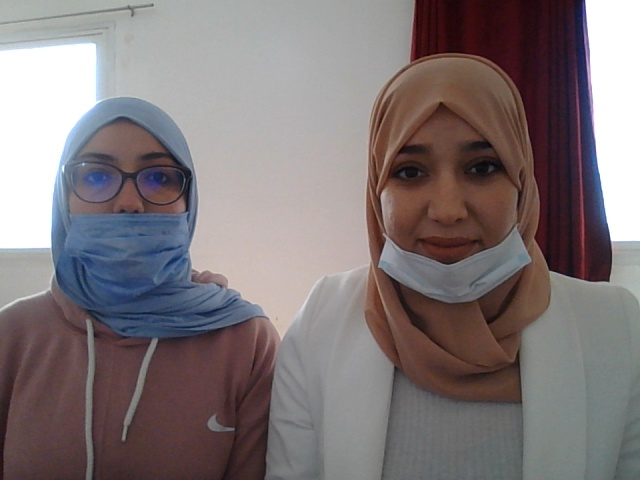mask_weared_incorrect: (357, 89, 555, 306), (56, 93, 183, 301)
